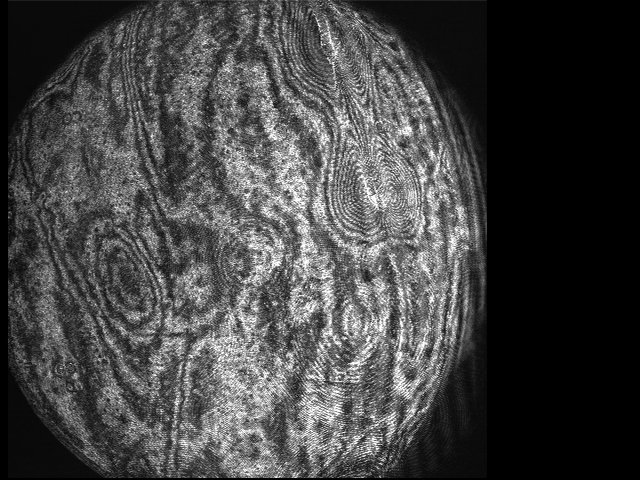plume: (331, 142, 420, 245)
